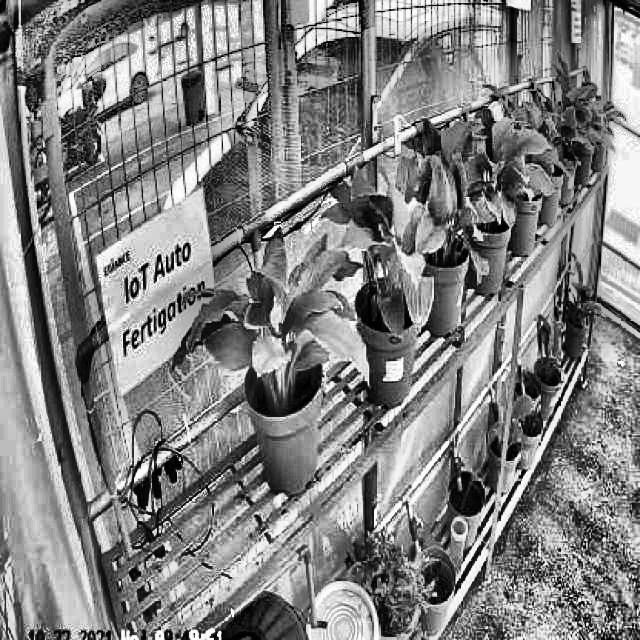plants: (172, 233, 370, 404), (327, 162, 436, 344), (398, 128, 492, 284), (446, 96, 557, 216)
